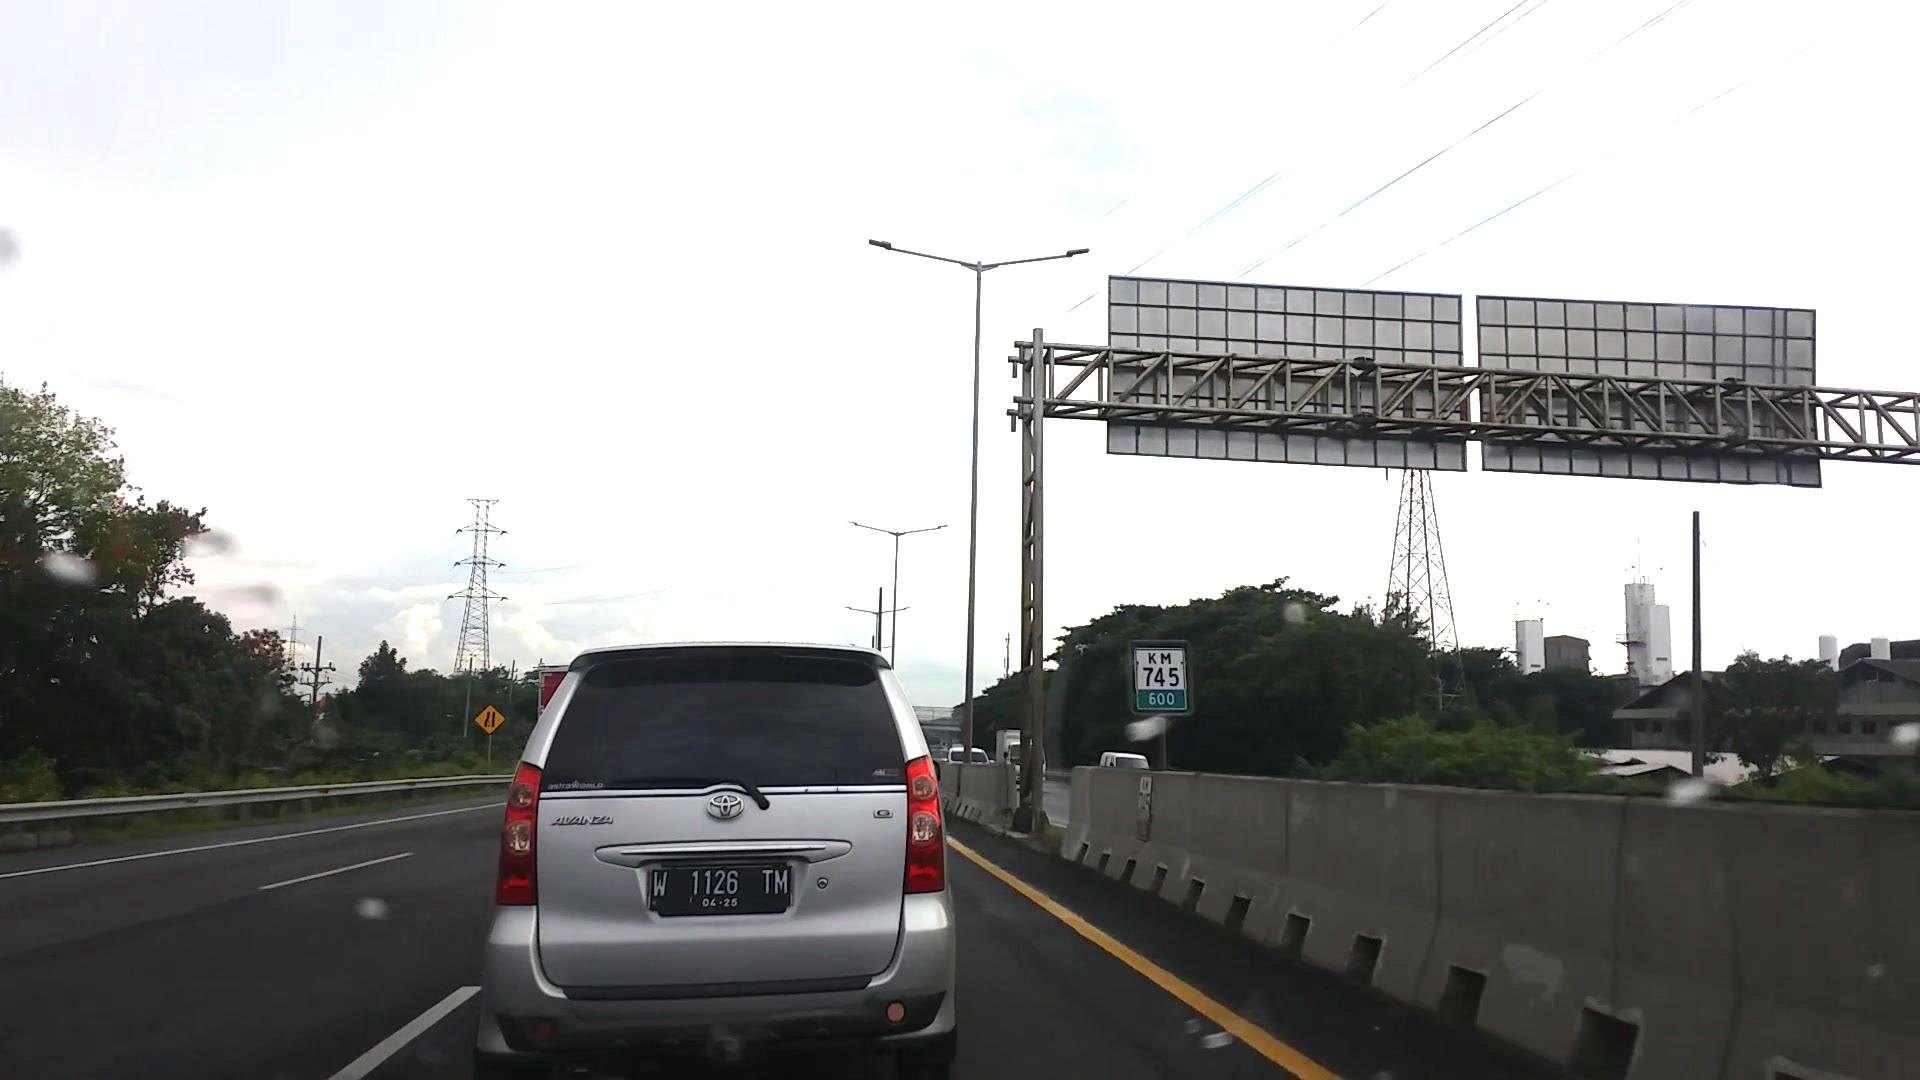plate_positive: (647, 866, 791, 915)
